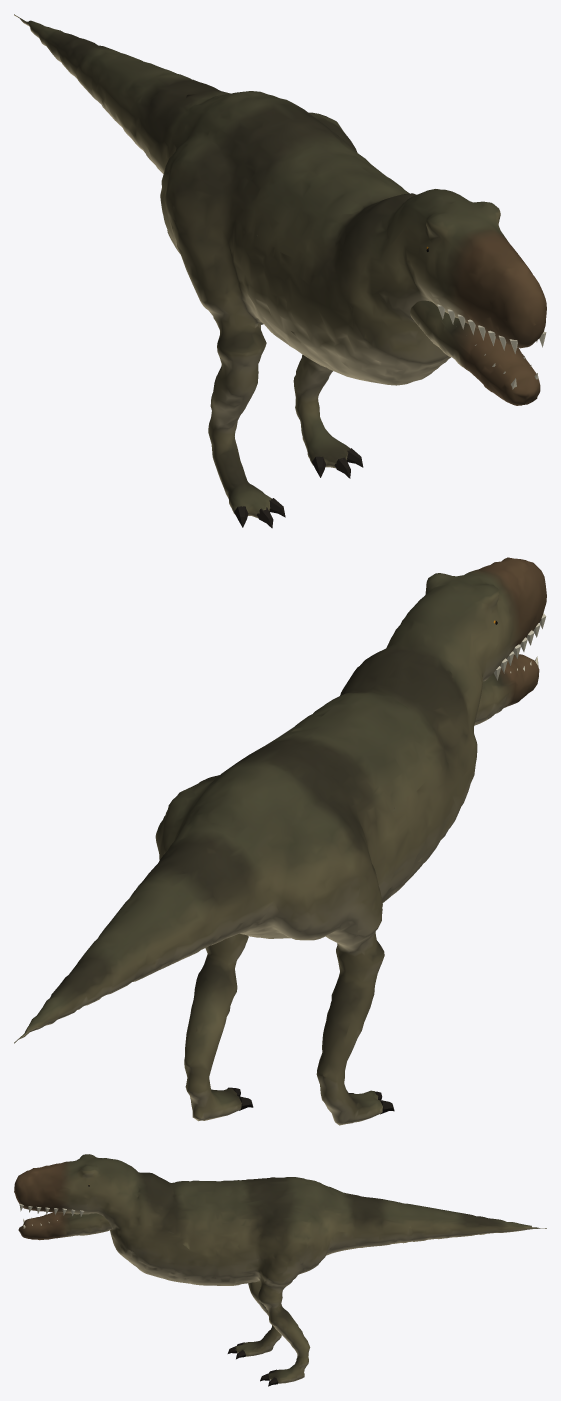
The model's file is Tarbosaurus.fbx.
The picture shows the model from 3 angles, top to bottom: view 1: azimuth 30°, elevation 25°; view 2: azimuth 150°, elevation 25°; view 3: azimuth 270°, elevation 25°; orthographic projection. The views are drawn at different scales.
Visible parts, largest first — view 1: Tarbosaurus; view 2: Tarbosaurus; view 3: Tarbosaurus.
Part boxes in pixels (x1,y1,x2,y2): Tarbosaurus: (14, 14, 546, 528); Tarbosaurus: (14, 557, 546, 1125); Tarbosaurus: (14, 1154, 546, 1386).
Size of the model in its own units: 0.4173 by 0.8549 by 1.98.
